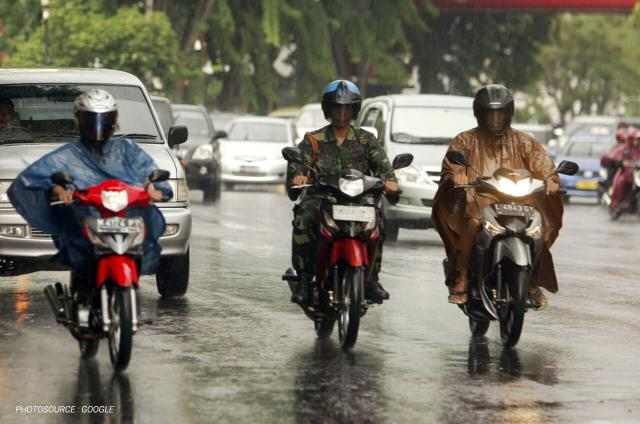helm: (73, 88, 123, 149), (472, 84, 519, 137), (322, 78, 365, 126)
motor: (444, 149, 584, 354), (280, 144, 416, 352), (52, 168, 173, 376)
